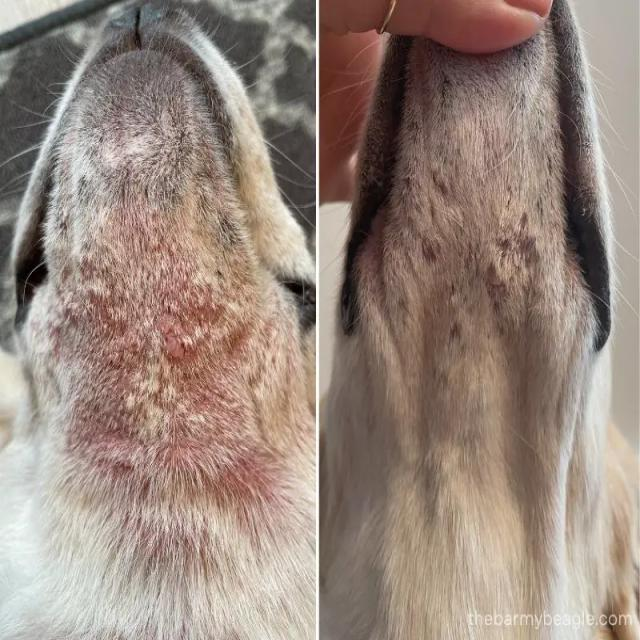fungal infection: (71, 248, 286, 496), (409, 92, 551, 390), (394, 280, 412, 337)
